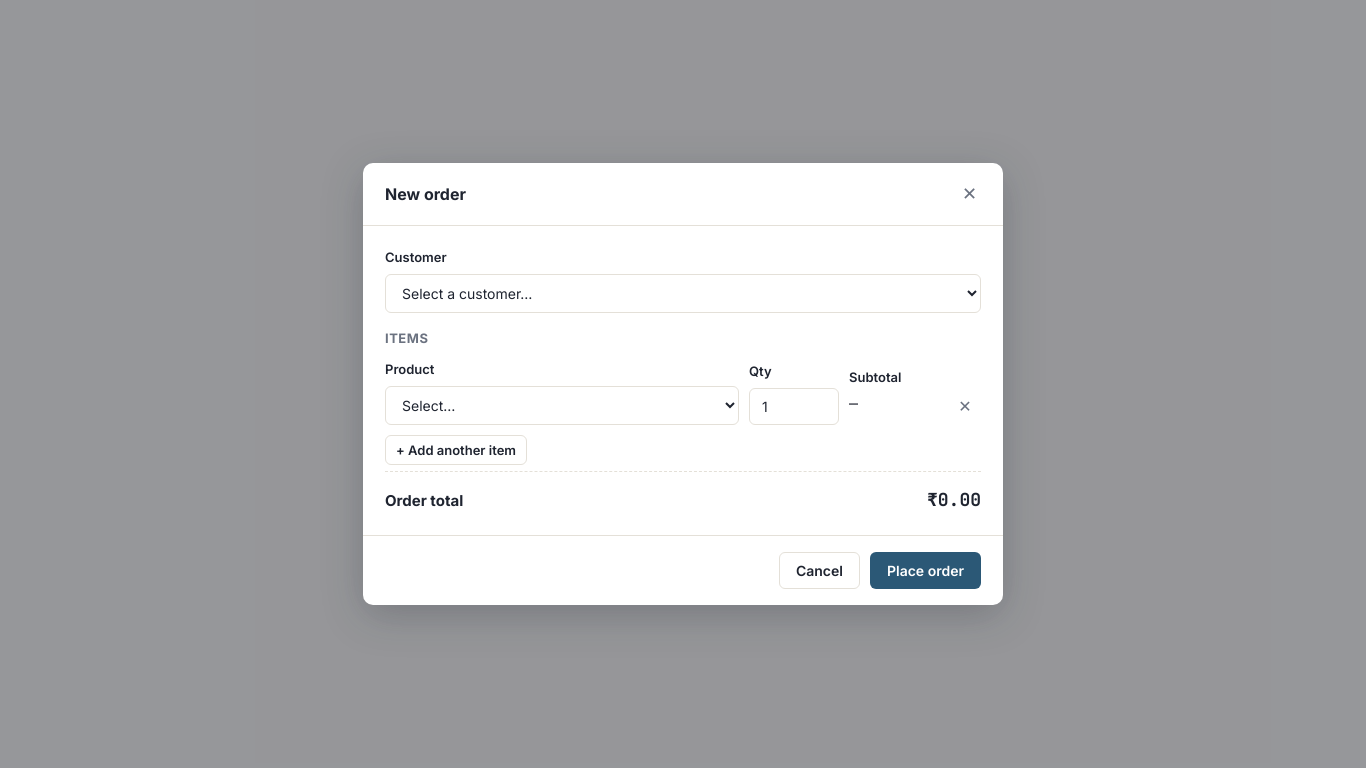
Test case: NewOrderModal › blocks submission when the requested quantity exceeds available stock
Step 1. Select "Anjali Sharma (anjali@example.com)" in the dropdown labelled "Customer" → coordinates (683, 293), box 385,274 -> 981,313
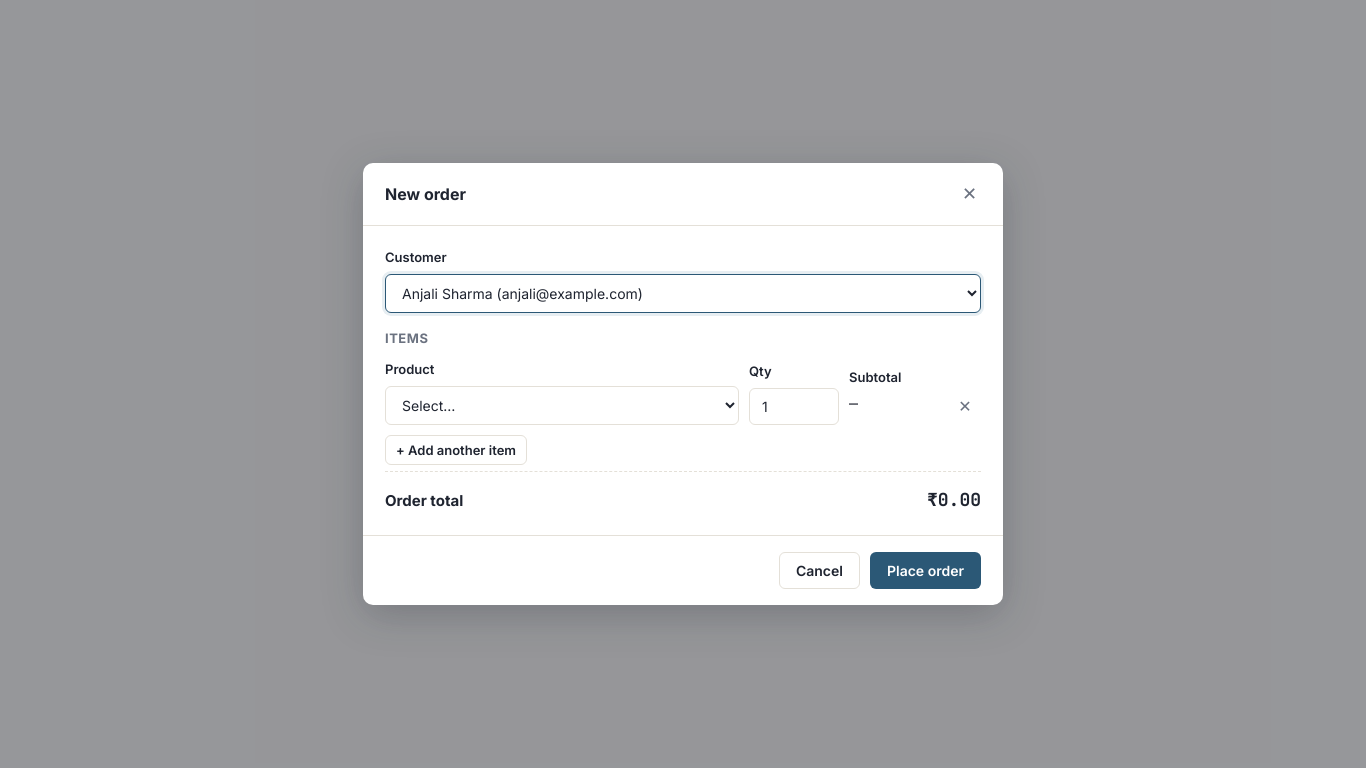
Step 2. Select "Brass Ganesh Idol (3 left)" in the dropdown labelled "Product" → coordinates (562, 405), box 385,386 -> 739,425
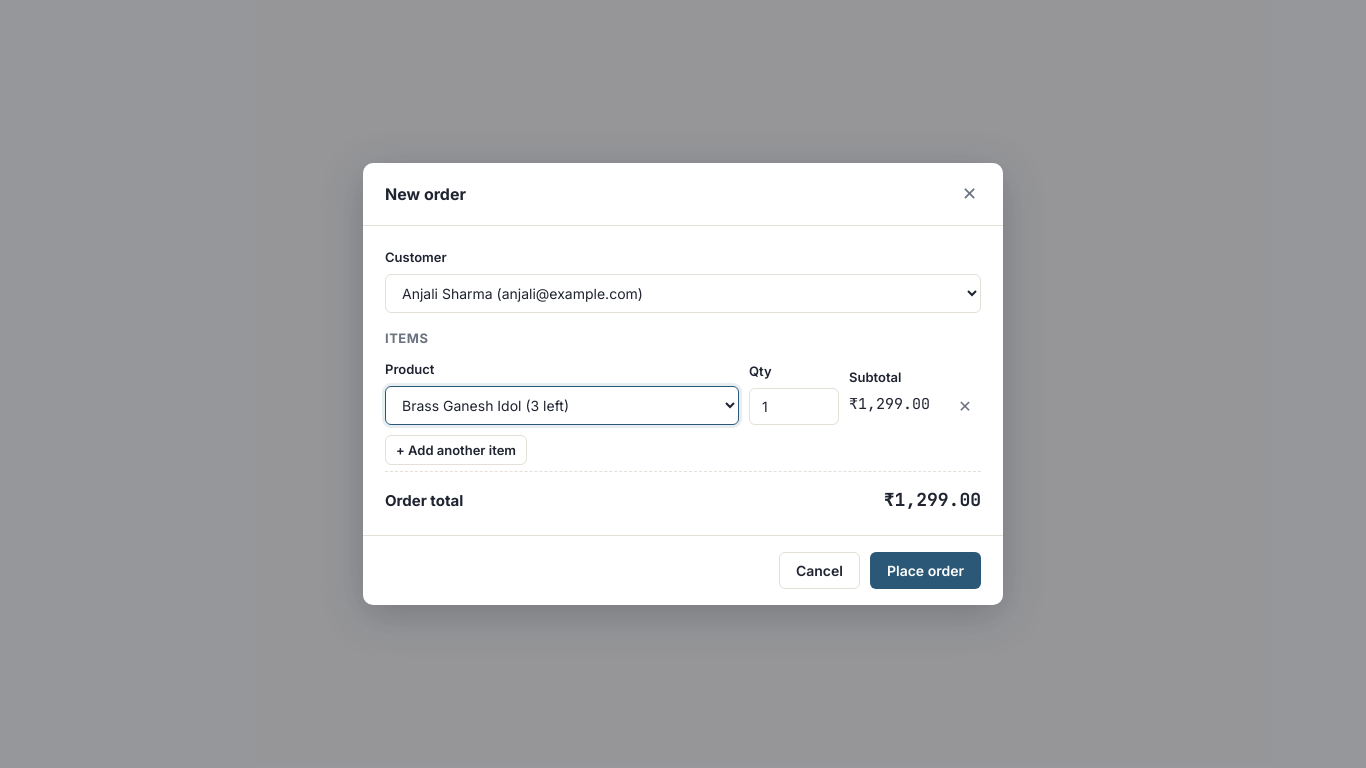
Step 3. Replace the text in the number field labelled "Qty" with "10" → coordinates (794, 406), box 749,388 -> 839,425
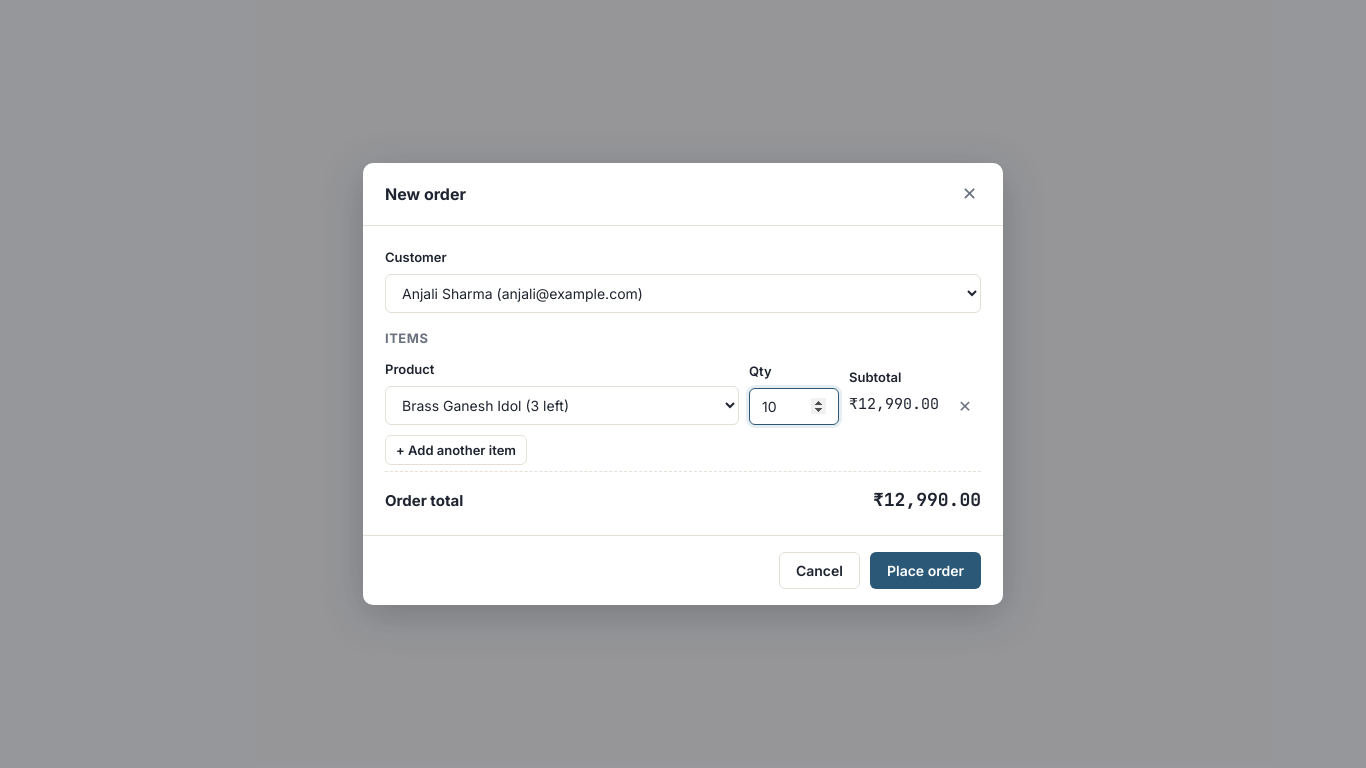
Step 4. Submit the form, box 363,226 -> 1003,605
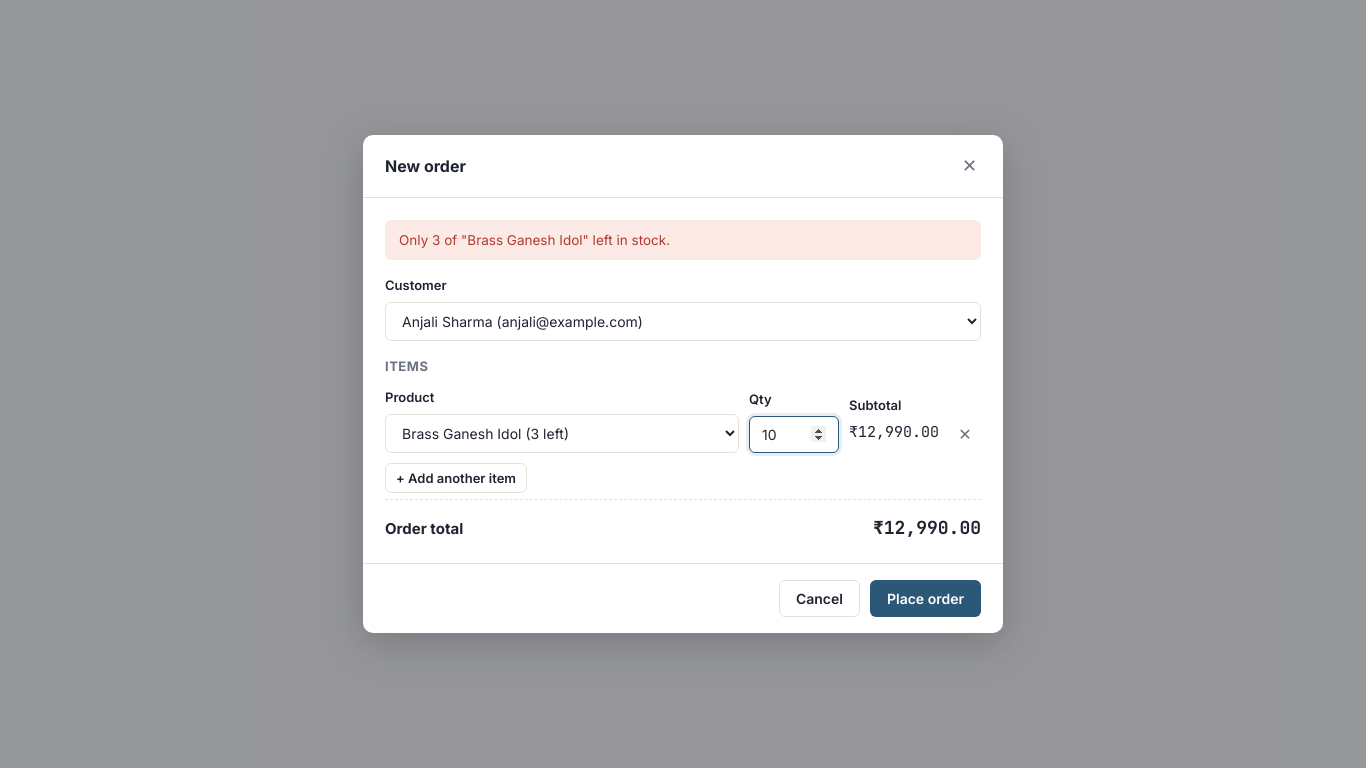
Now the text "Only 3 of \"Brass Ganesh Idol\" left in stock." is shown, box 385,220 -> 981,260
